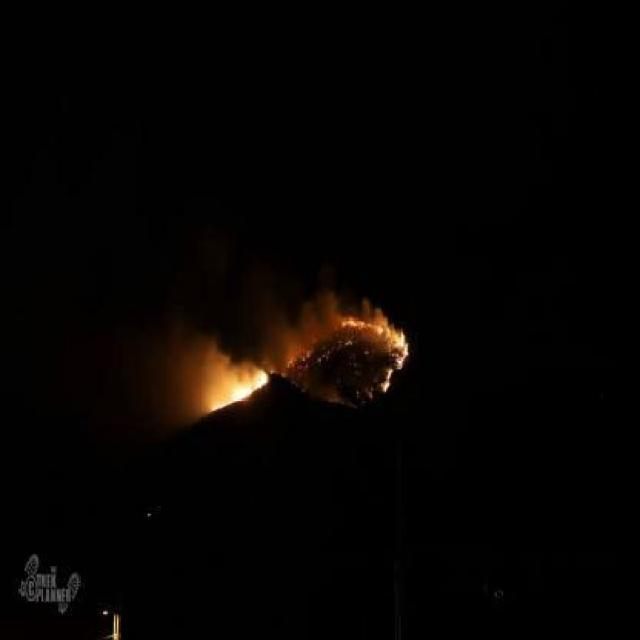Fire: (209, 368, 269, 412), (384, 325, 408, 393), (340, 311, 382, 334)
